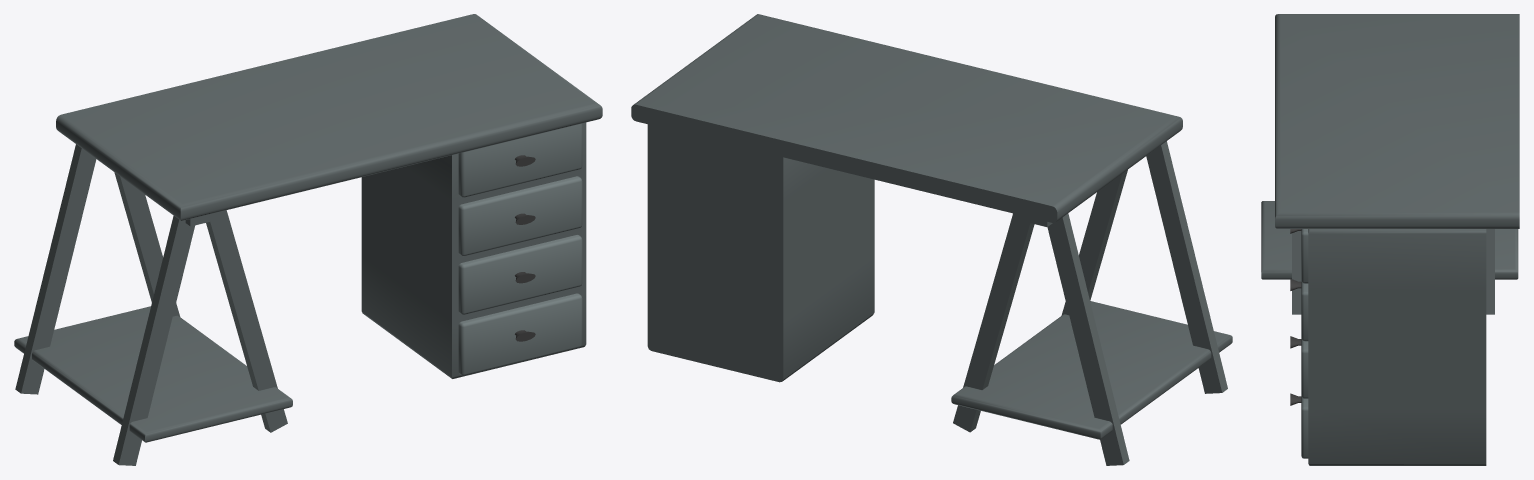
File: Computer-Desk-3.fbx
3 views of the same model, side by side, from view 1: azimuth 30°, elevation 25°; view 2: azimuth 150°, elevation 25°; view 3: azimuth 270°, elevation 25° (orthographic). The views are drawn at different scales.
Visible parts, largest first — view 1: Computer-Desk-3; view 2: Computer-Desk-3; view 3: Computer-Desk-3.
Boxes of the visible parts, box(x1,y1,x2,y2) form: Computer-Desk-3: box(14, 14, 602, 465); Computer-Desk-3: box(631, 14, 1232, 465); Computer-Desk-3: box(1261, 14, 1519, 465).
Size of the model in its own units: 1.89 by 0.9759 by 0.9051.
